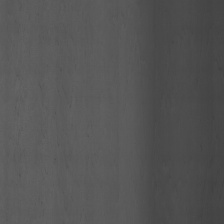silk_spot: (18, 36, 79, 163)
